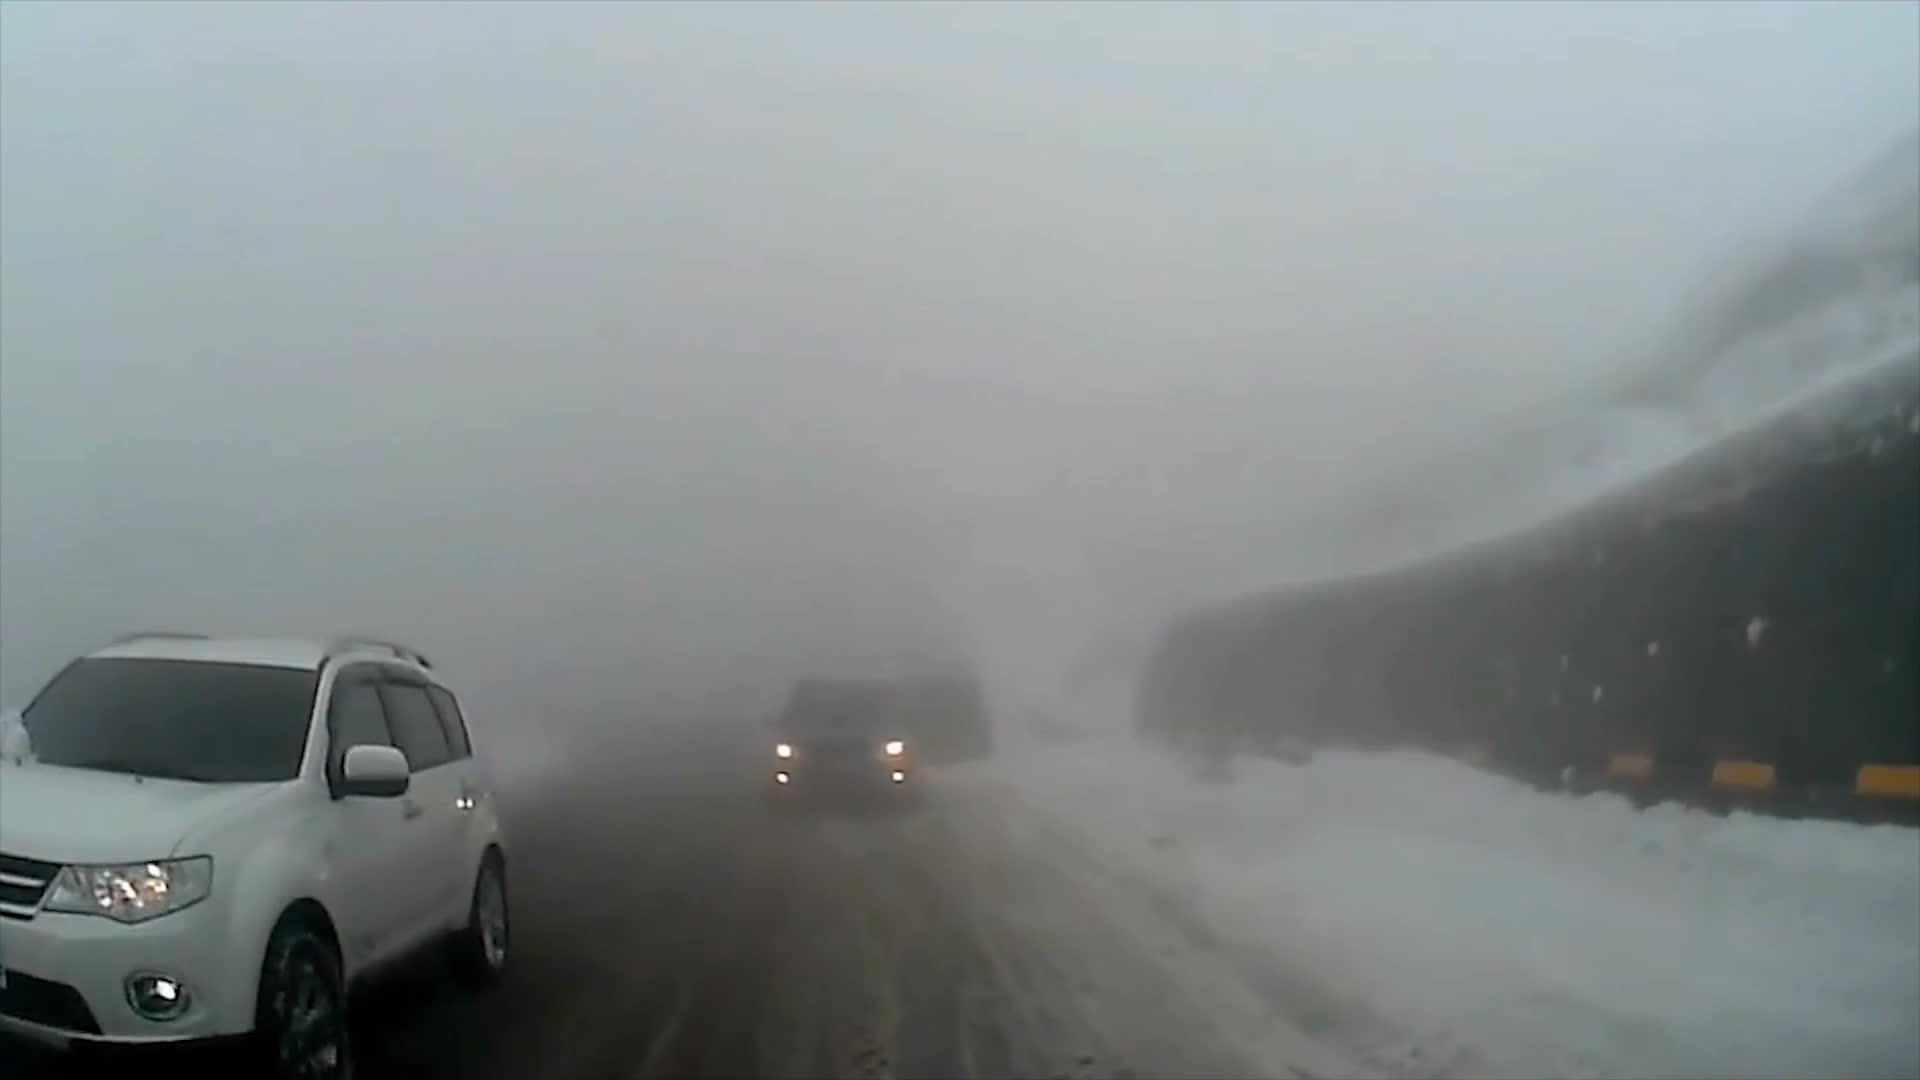vehicle: (0, 626, 516, 1080), (758, 675, 920, 815)
